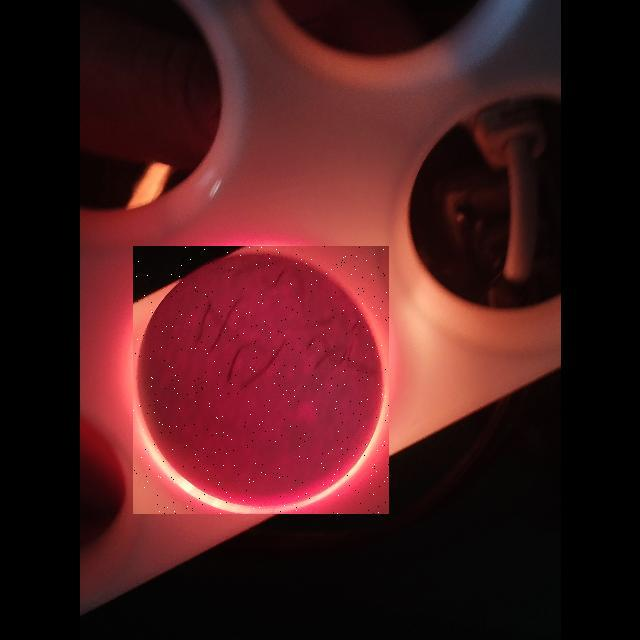Infertile: (133, 246, 389, 514)
